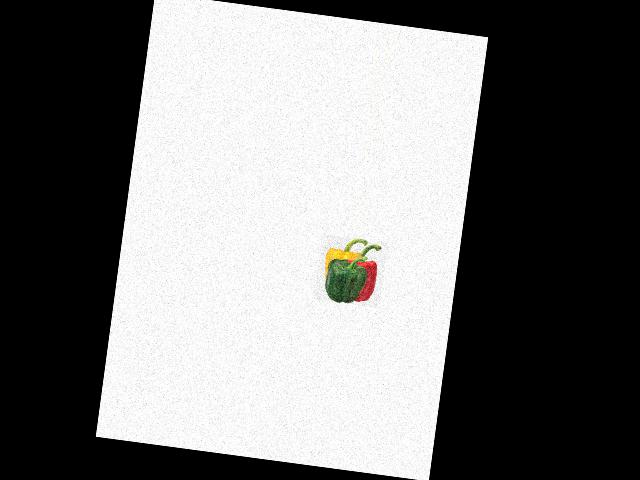bell_pepper: (342, 239, 388, 306)
